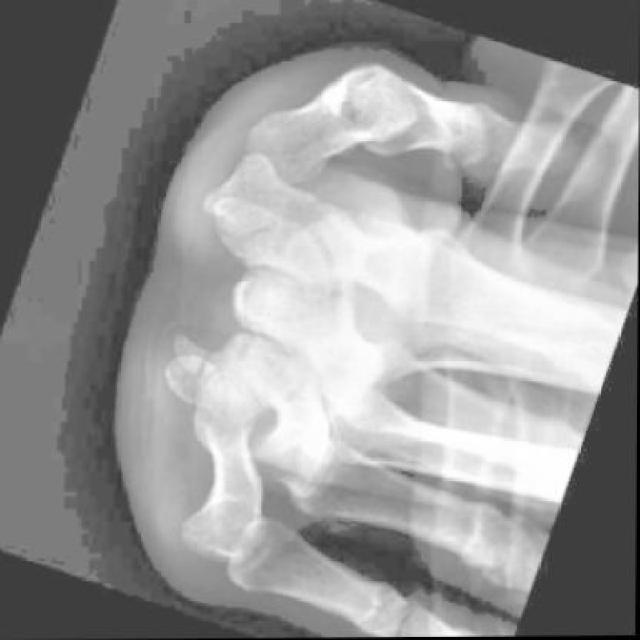Fracture: (180, 338, 225, 388)
